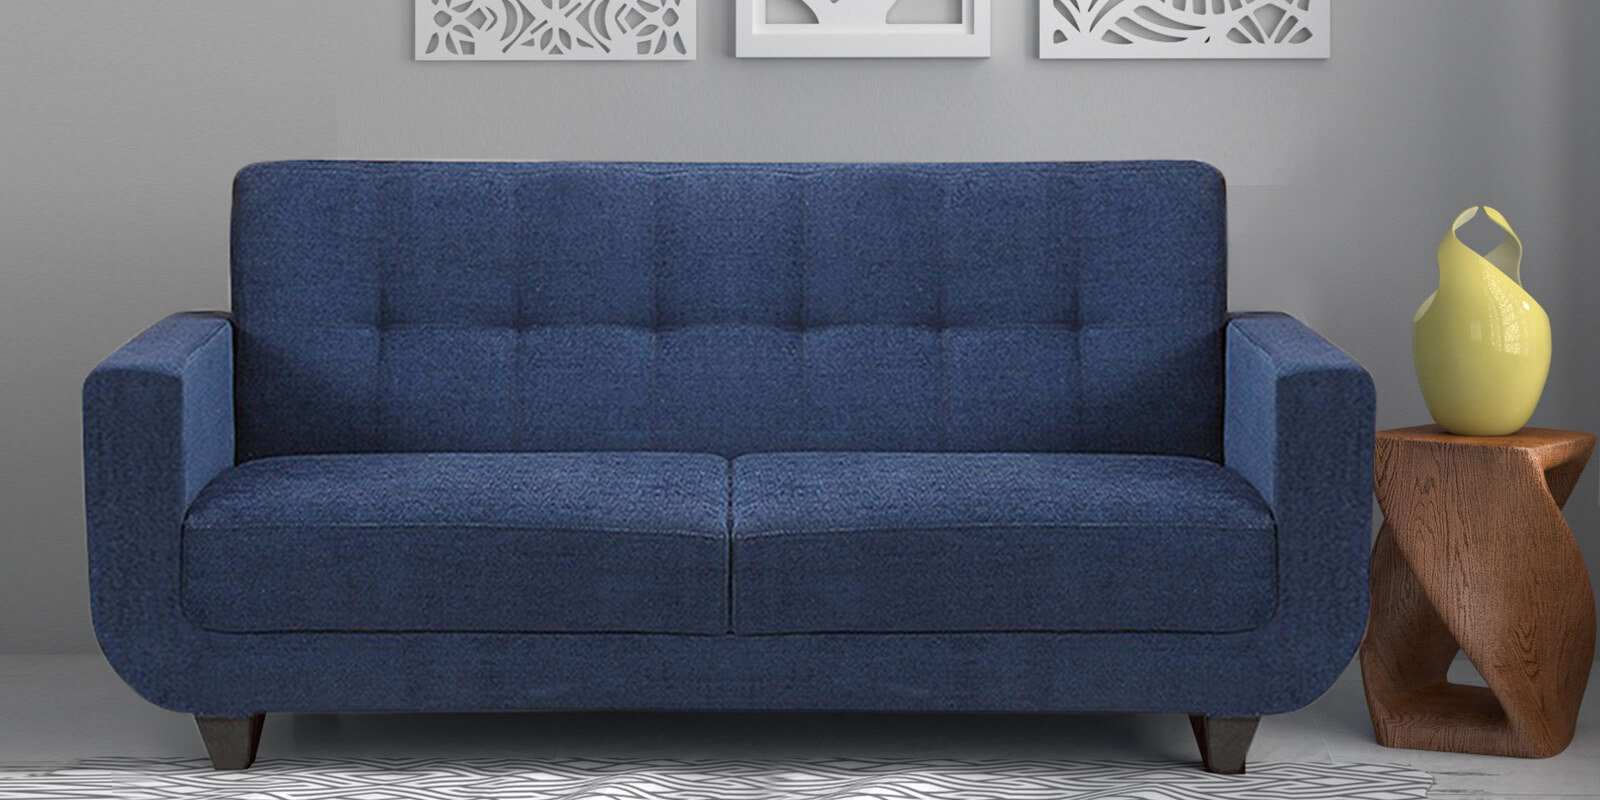Berlin Three Seater Sofa in Blue Colour by Crystal Furnitech: (69, 134, 1376, 789)
